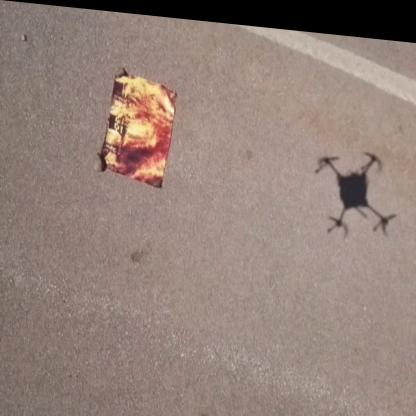fire-poster: (98, 61, 178, 188)
